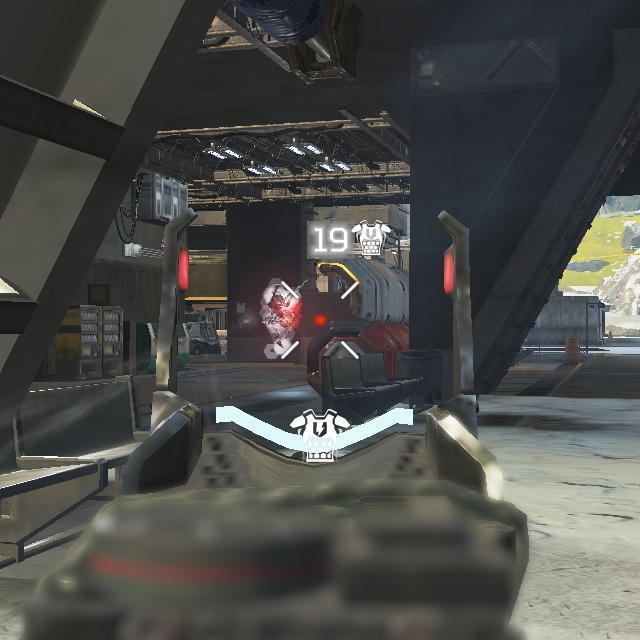avatar: (260, 282, 294, 361)
